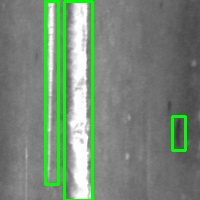inclusion: (172, 116, 185, 150)
scratches: (64, 1, 92, 200), (45, 1, 58, 184)
